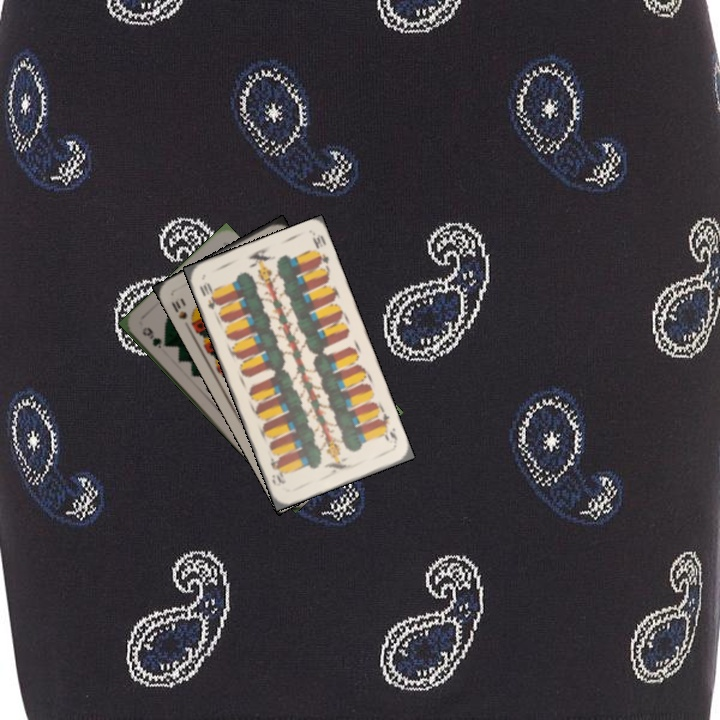E10: (374, 409, 400, 446), (195, 278, 222, 312)
G9: (138, 323, 164, 351)
S10: (167, 297, 197, 328)
